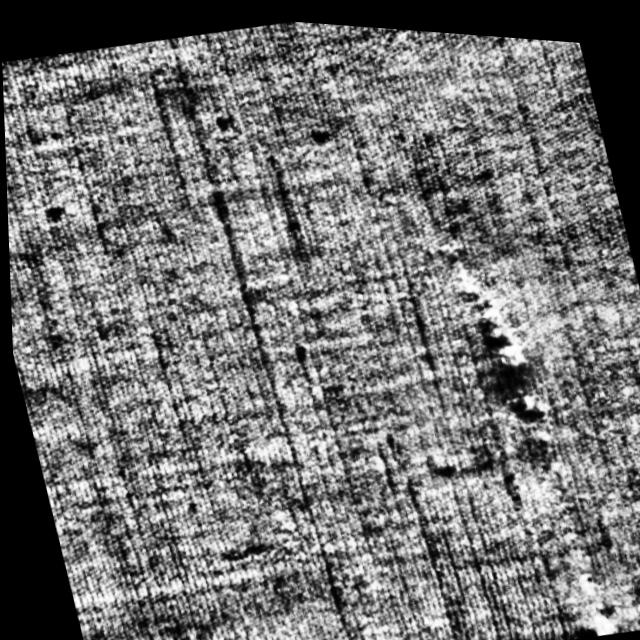Stitch: (450, 242, 560, 447)
